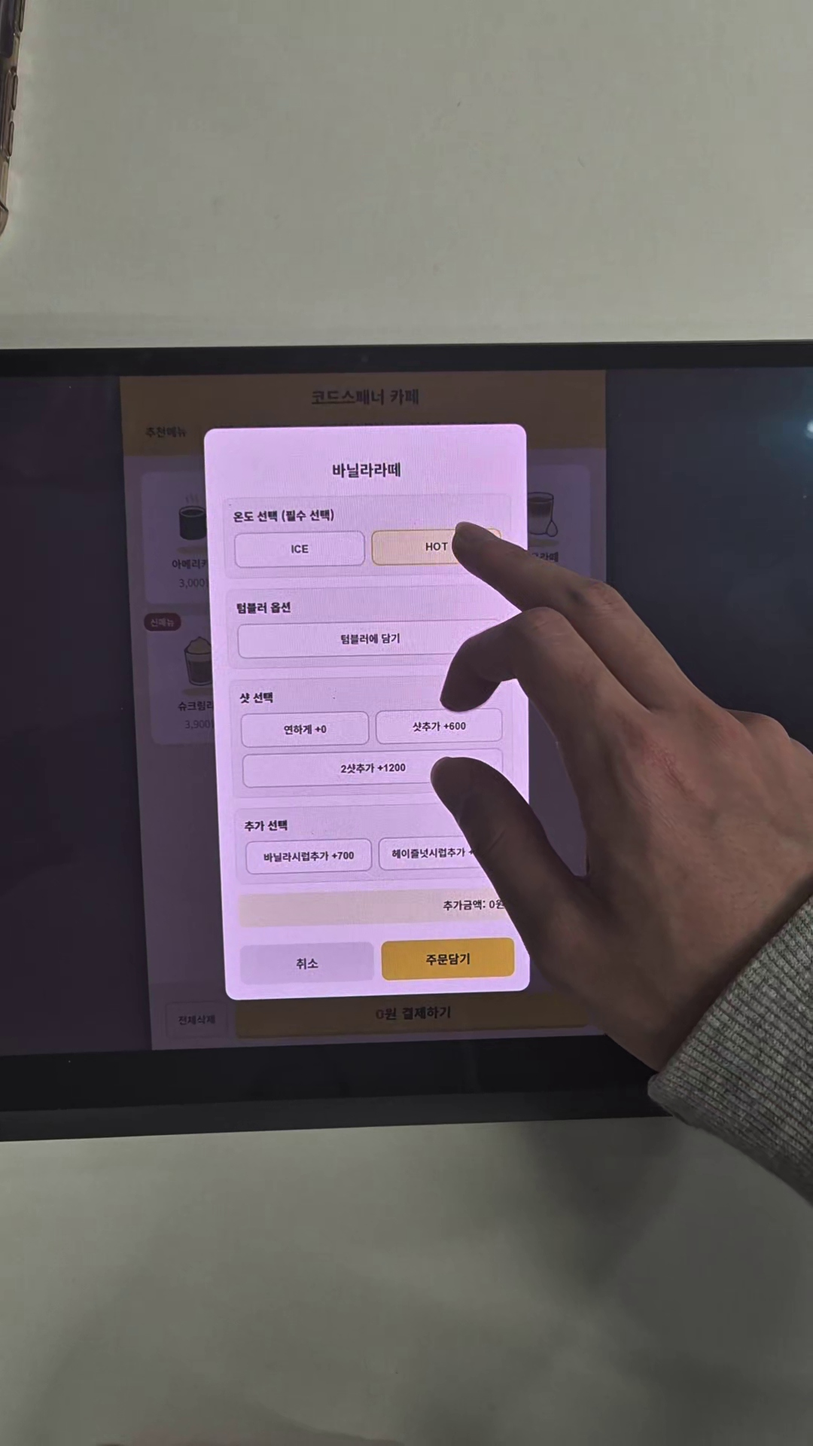action_button: (382, 938, 516, 979), (242, 942, 374, 983)
option_button: (238, 619, 507, 658), (241, 749, 504, 787), (377, 834, 508, 871), (234, 532, 364, 569), (372, 528, 502, 565), (376, 708, 506, 745), (243, 839, 373, 876), (241, 712, 371, 748)
popup_modal: (204, 422, 530, 999)
